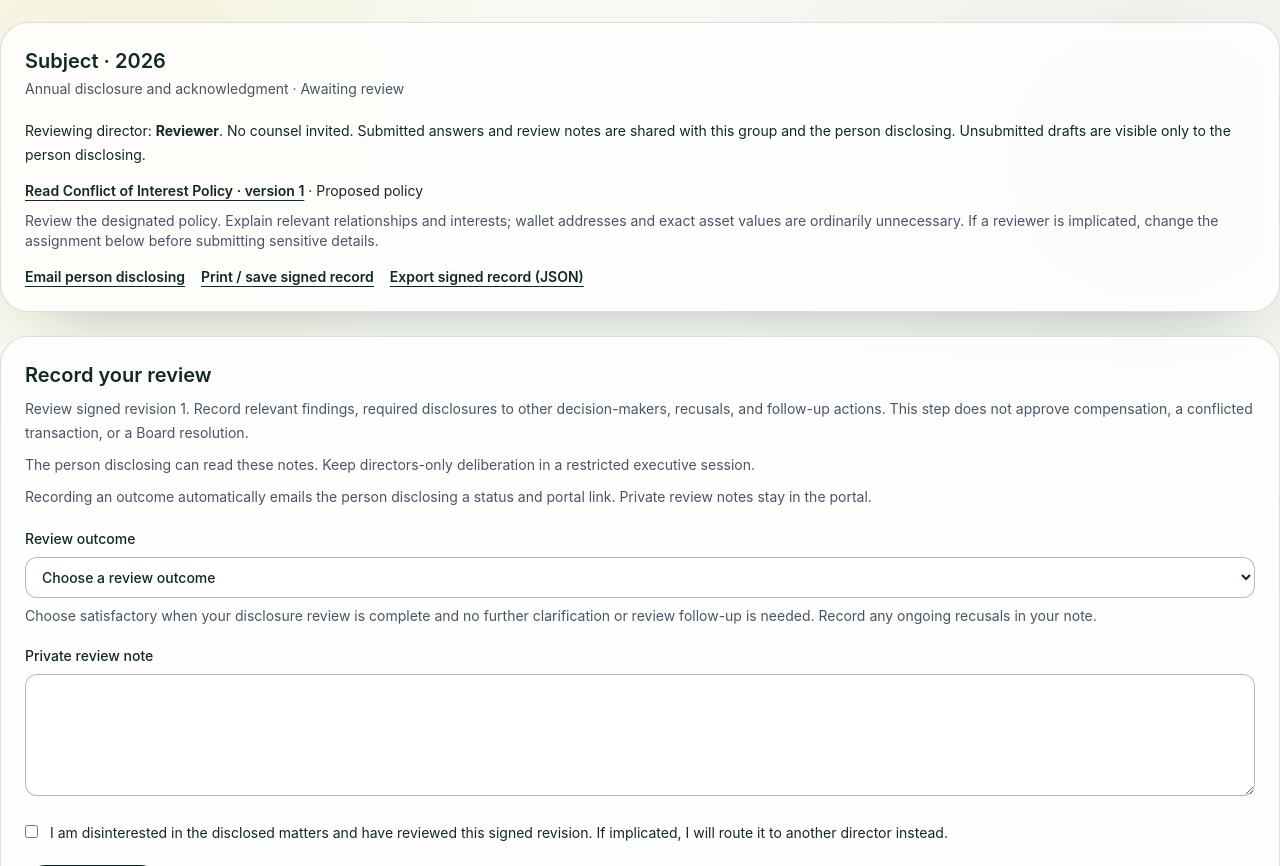
Test: disclosure review outcomes › confirms a successful write even when the subsequent refresh fails
Select "Review complete — satisfactory" in the dropdown labelled "Review outcome". click: (640, 578)
box: [25,557,1255,598]
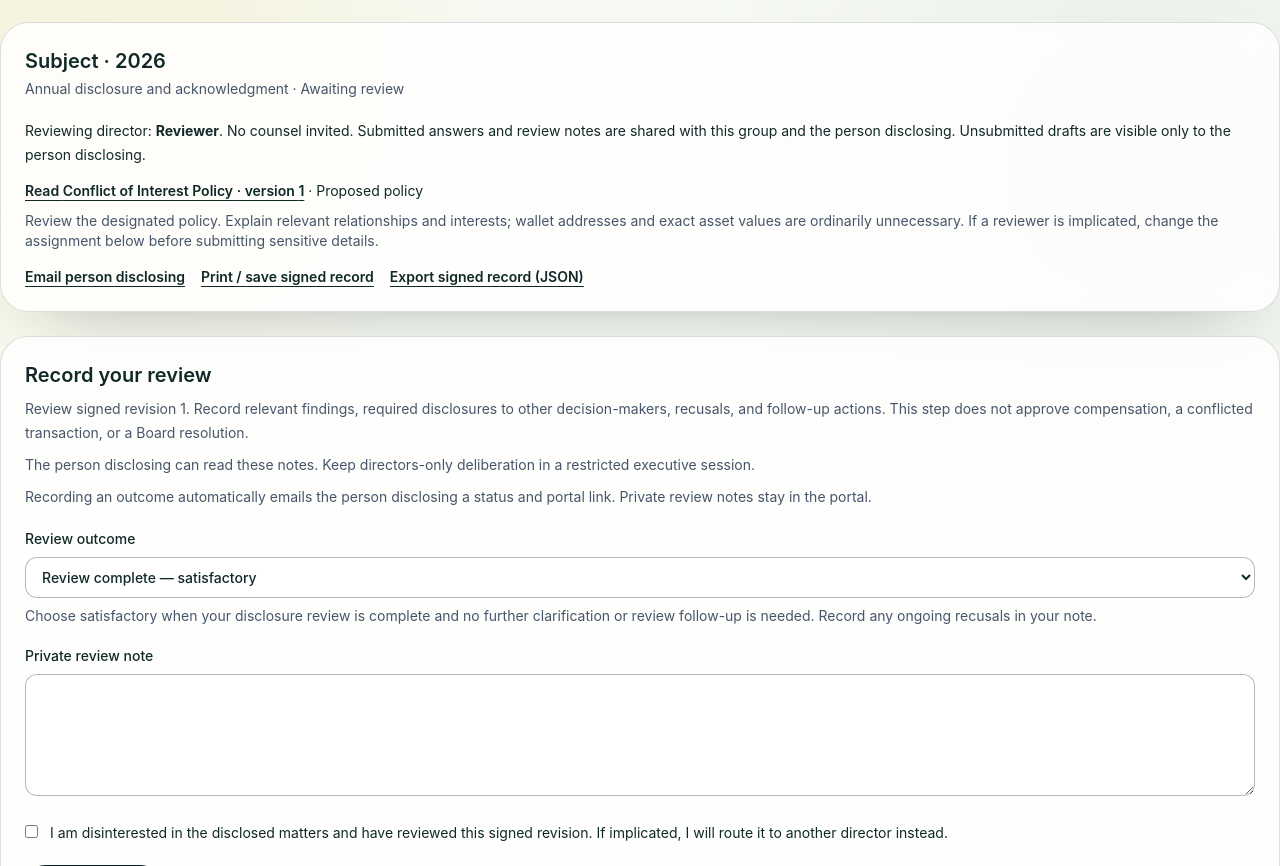
Type "Complete." into the text box labelled "Private review note". click: (640, 735)
box: [25,674,1255,796]
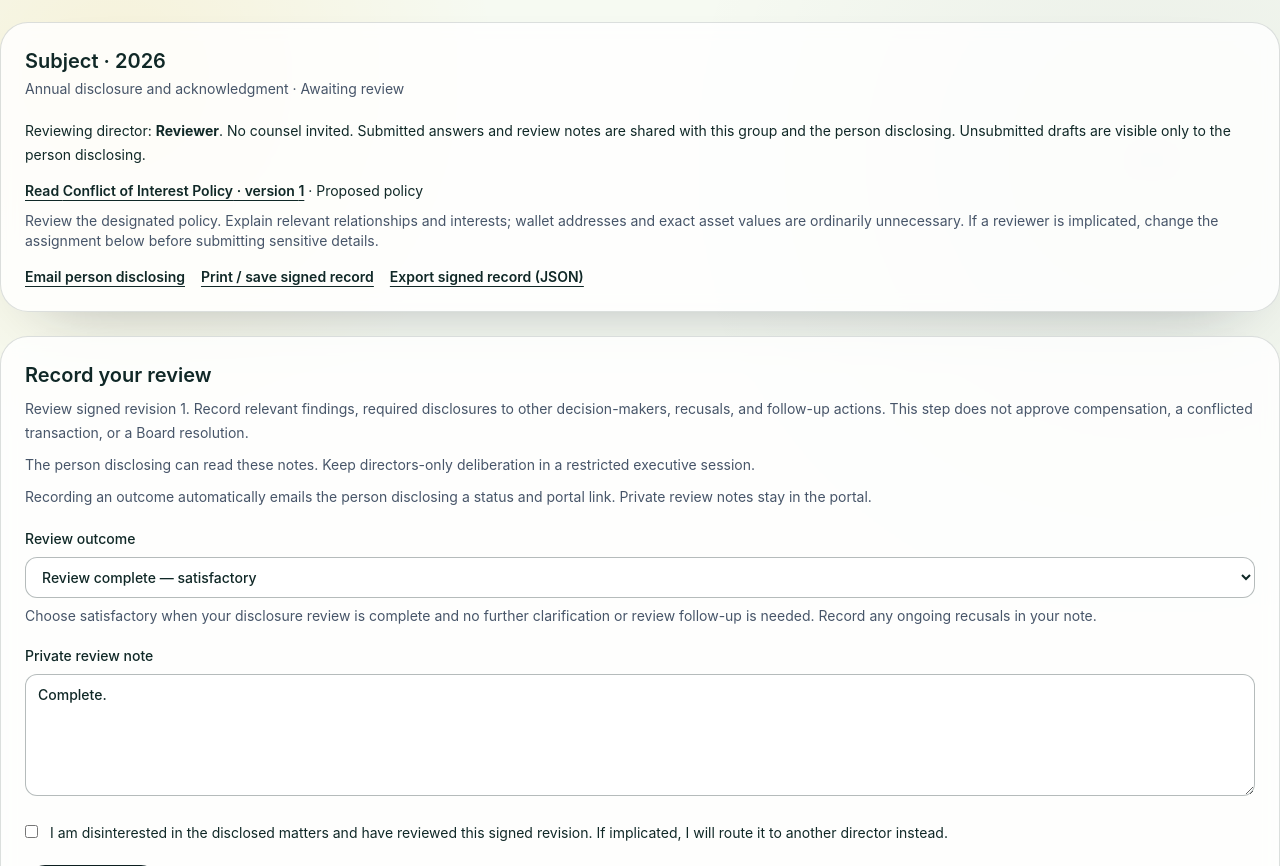
Click the checkbox labelled "I am disinterested". click: click(32, 832)
box: [25,825,38,838]
(page scrolled)
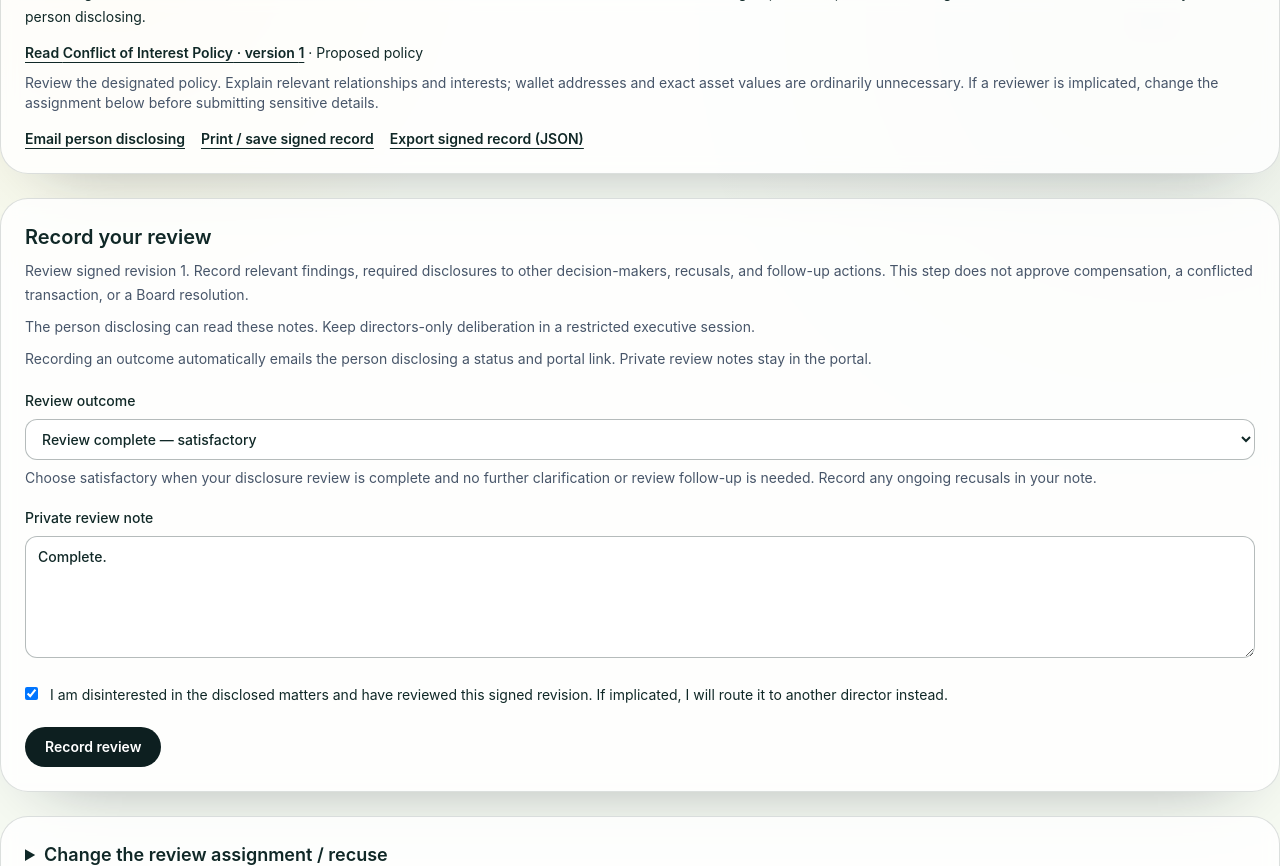
Click the button "Record review". click: click(93, 747)
box: [25,727,161,767]
(page scrolled)
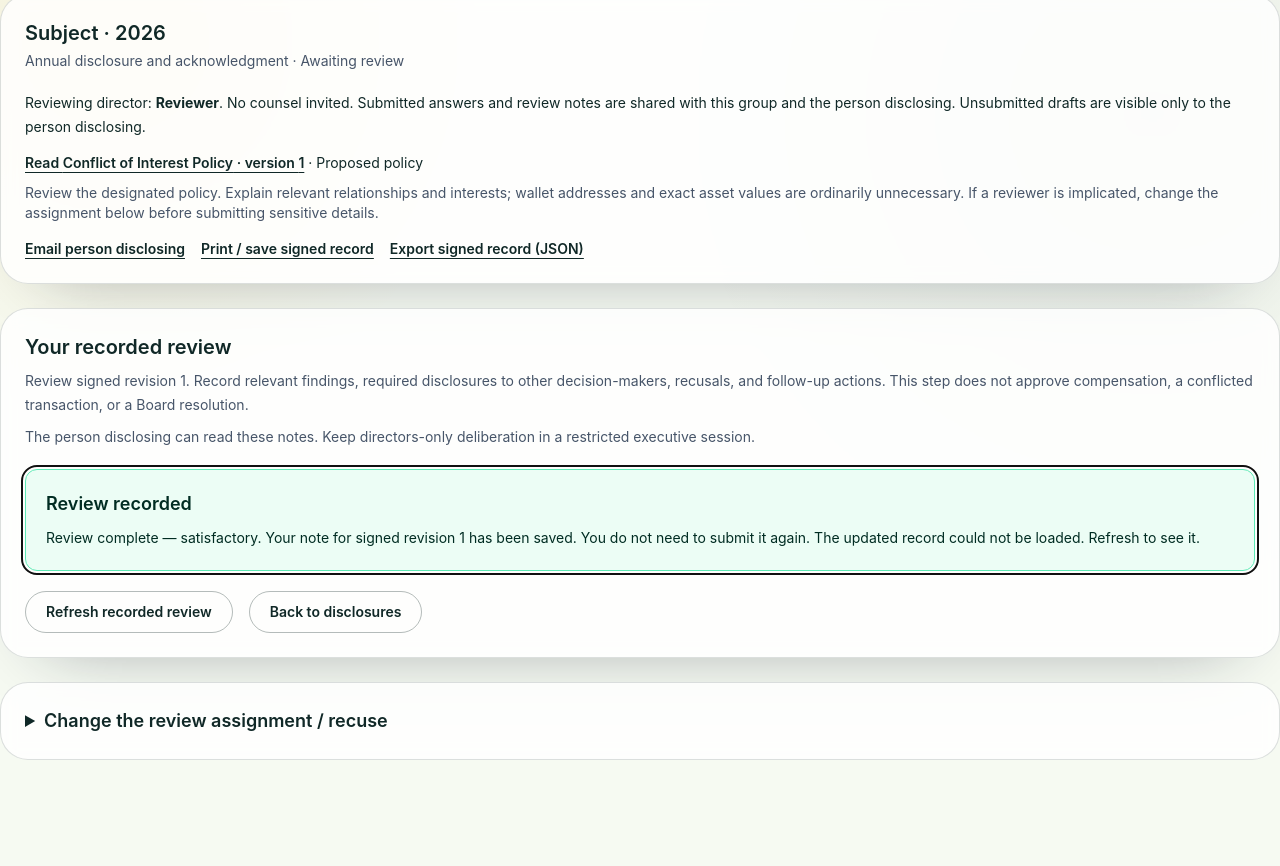
Now the message shows "You do not need to submit it again", box [46,529,1200,546]
Now the button "Refresh recorded review" is shown, box [25,591,233,633]
Now the button "Record review" is gone
